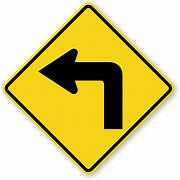left: (1, 1, 176, 175)
